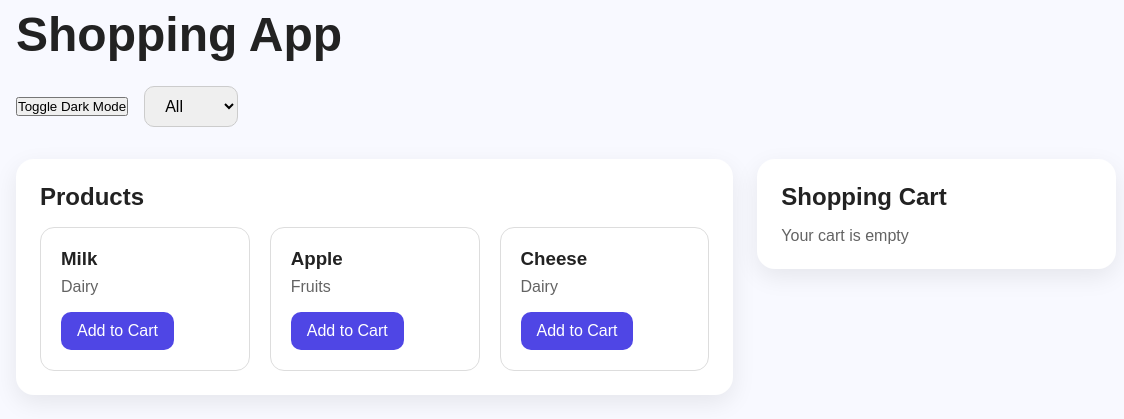
displays message when no products match filter
Select "NonExistent" in the dropdown. click: (191, 106)
box: x1=144 y1=86 x2=238 y2=127
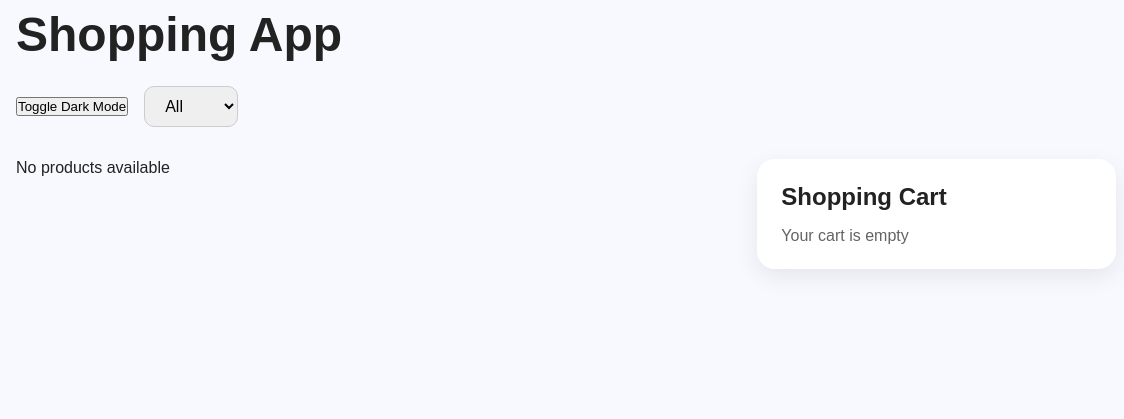
Result: the text "No products available" is shown at x1=16 y1=159 x2=170 y2=176
